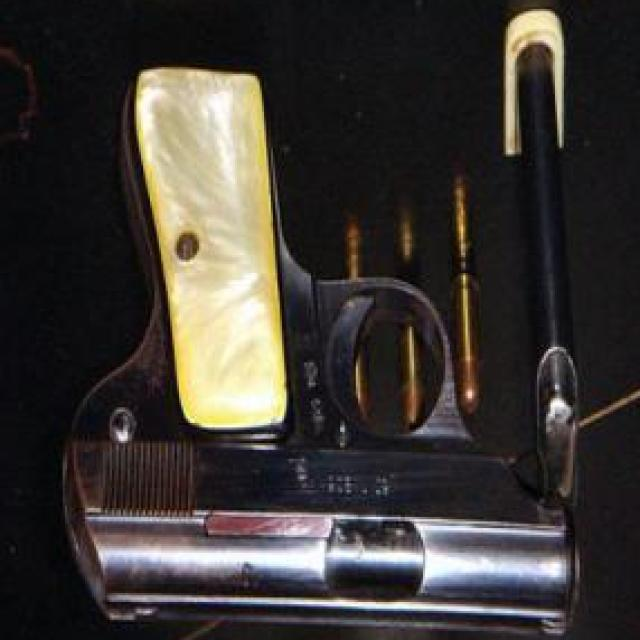pistol: (71, 77, 582, 636)
